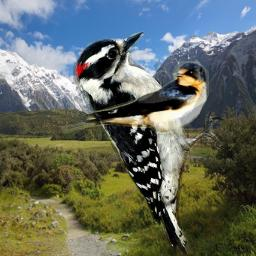Swallow: (60, 61, 209, 138)
Woodpecker: (73, 31, 235, 254)
